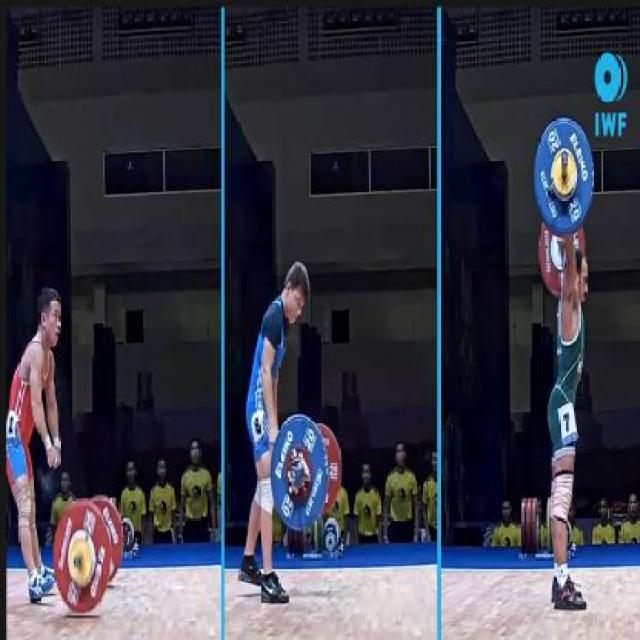Barbell: (286, 461, 300, 488), (558, 145, 571, 170), (70, 550, 82, 575)
